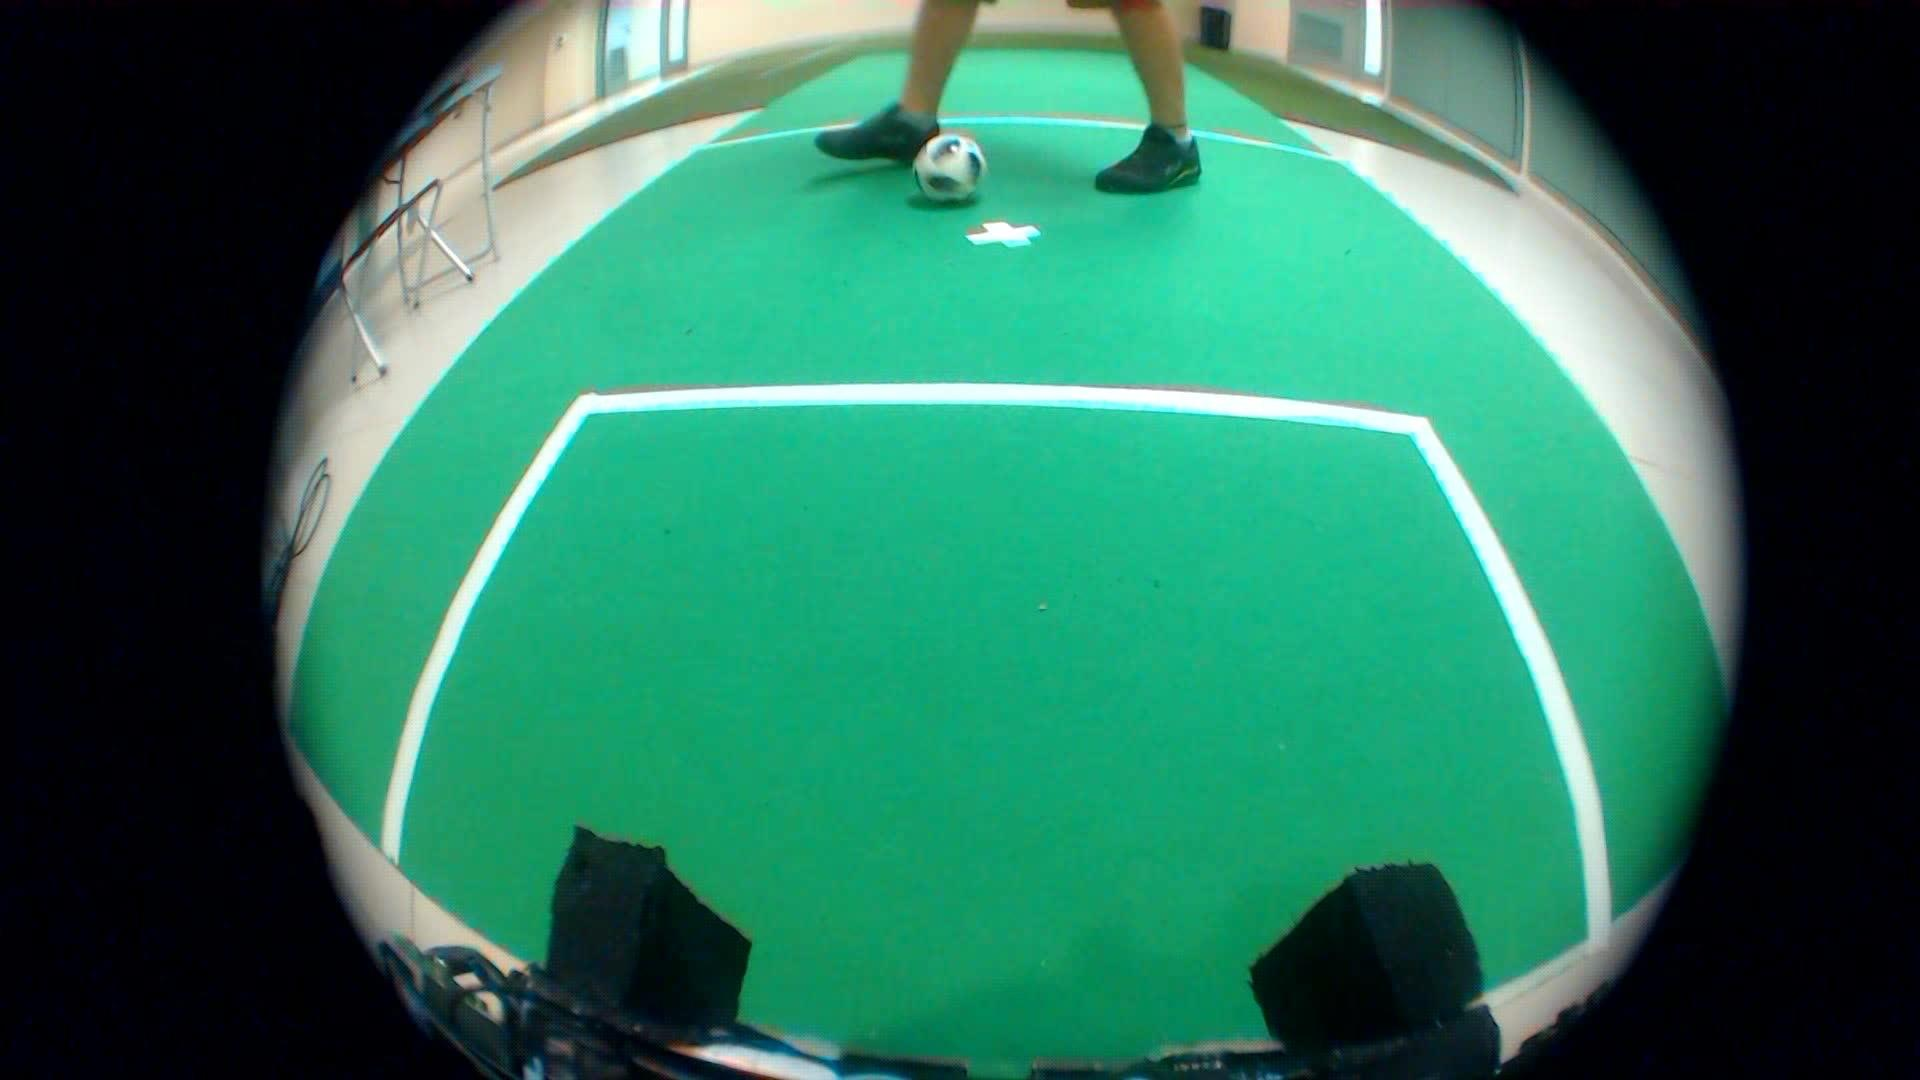ball: (913, 113, 1004, 212)
